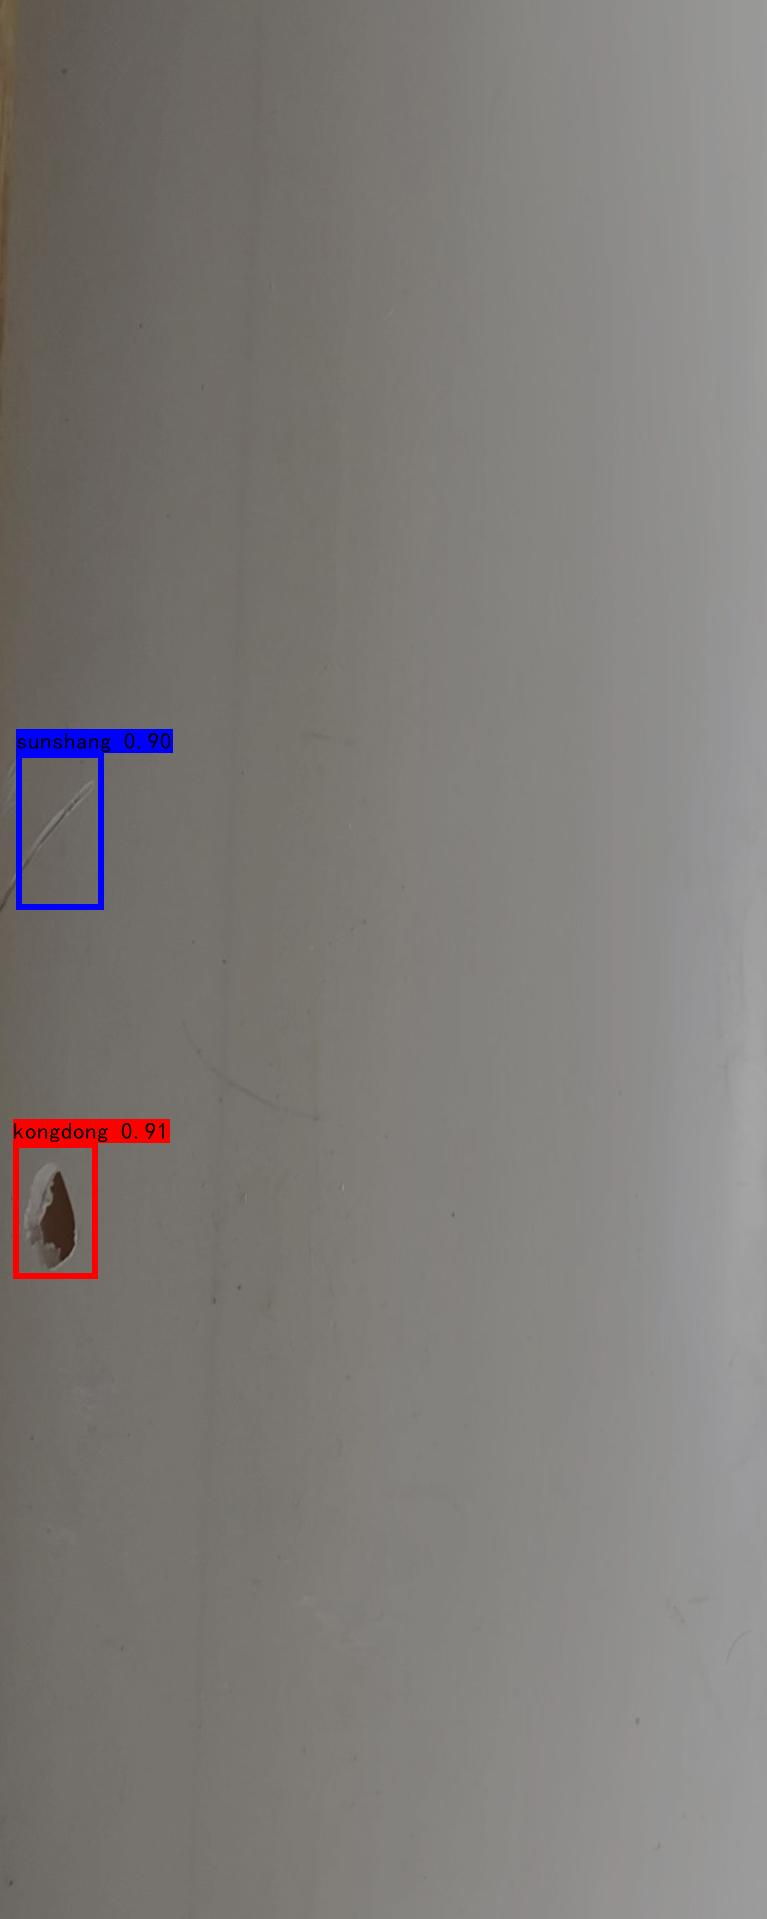kongdong: (1, 1157, 99, 1276)
